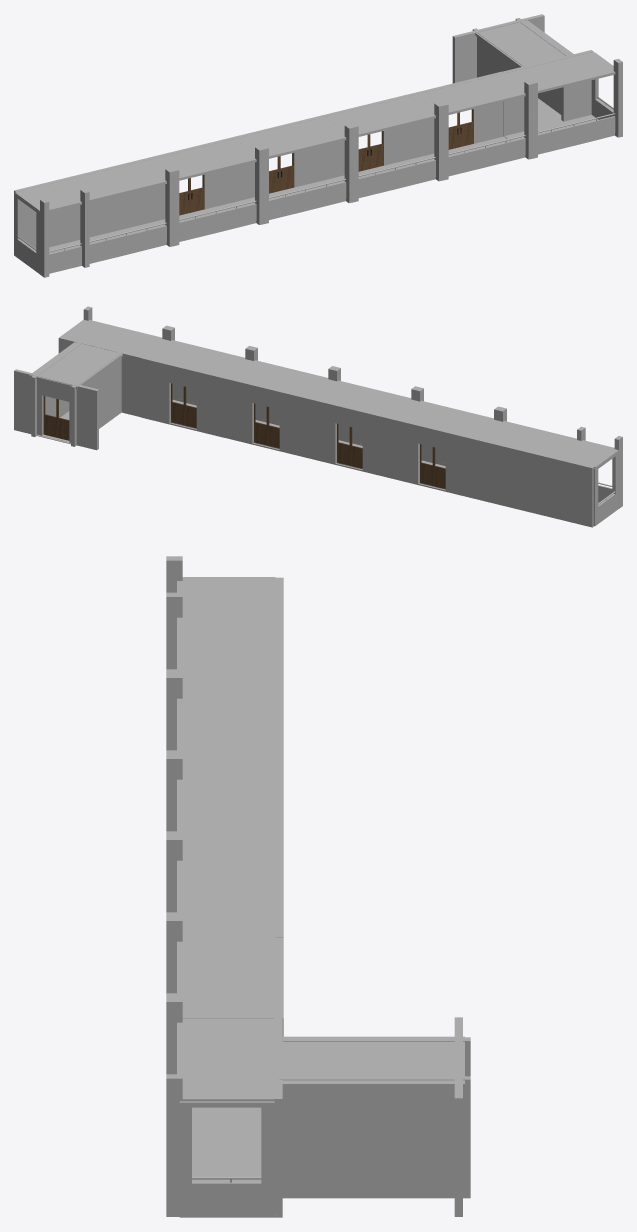
File: AraiMioAshley_Hallway.fbx
3 views of the same model, one above another, from view 1: azimuth 30°, elevation 25°; view 2: azimuth 150°, elevation 25°; view 3: azimuth 270°, elevation 25° (orthographic). The views are drawn at different scales.
Parts seen in each view (by area): view 1: wall1, pillar1, pillar4, pillar6, pillar3, pillar5, pillar, roof3, roof1, roof8, roof2, roof7 (+26 smaller); view 2: wall1, wall8, wall3, wall, wall9, wall7, wall2, roof7, roof8, roof1, roof2, roof3 (+21 smaller); view 3: wall6, roof6, roof5, roof1, roof2, roof7, roof8, roof3, end_corridor1, roof4, corridor_floor3, pillar3 (+9 smaller).
Part boxes in pixels (box(x1,y1,x2,y2)): wall1: box(53, 159, 144, 245); pillar1: box(80, 168, 174, 267); pillar4: box(439, 80, 533, 180); pillar6: box(170, 146, 264, 245); pillar3: box(529, 58, 622, 158); pillar5: box(350, 102, 443, 202); pillar: box(260, 124, 353, 223); roof3: box(57, 161, 166, 202); roof1: box(414, 73, 525, 114); roof8: box(325, 95, 435, 136); roof2: box(145, 139, 256, 180); roof7: box(235, 117, 346, 158); wall1: box(473, 437, 557, 518); wall8: box(390, 417, 474, 498); wall3: box(307, 397, 391, 477); wall: box(141, 357, 225, 437); wall9: box(224, 377, 308, 457); wall7: box(14, 369, 98, 450); wall2: box(556, 458, 594, 527); roof7: box(310, 380, 415, 417); roof8: box(227, 360, 331, 396); roof1: box(144, 340, 249, 376); roof2: box(393, 400, 497, 437); roof3: box(476, 421, 580, 457); wall6: box(279, 1076, 470, 1198); roof6: box(273, 1036, 464, 1088); roof5: box(177, 1018, 274, 1101); roof1: box(177, 937, 275, 1018); roof2: box(177, 694, 275, 775); roof7: box(177, 775, 275, 856); roof8: box(177, 856, 275, 937); roof3: box(177, 613, 275, 694); end_corridor1: box(179, 1101, 274, 1217); roof4: box(177, 577, 275, 614); corridor_floor3: box(192, 1134, 275, 1216); pillar3: box(166, 997, 182, 1216).
Bounding box in the file's own units: 3012 × 373 × 741.
